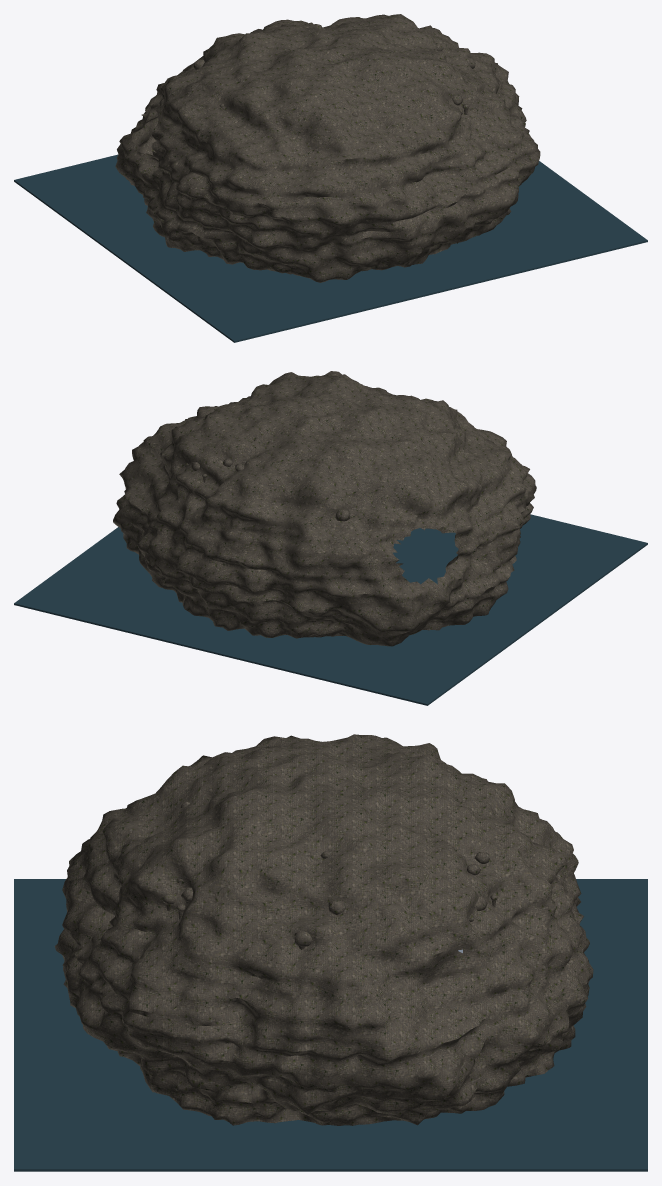
The model's file is Cave.fbx.
The picture shows the model from 3 angles, top to bottom: view 1: azimuth 30°, elevation 25°; view 2: azimuth 150°, elevation 25°; view 3: azimuth 270°, elevation 25°; orthographic projection. The views are drawn at different scales.
Parts seen in each view (by area): view 1: Cave_Shell_LOD0, Cave_Water; view 2: Cave_Shell_LOD0, Cave_Water; view 3: Cave_Shell_LOD0, Cave_Water, Cave_Stalactites_LOD0.
Boxes of the visible parts, left/top/right/bottom form: Cave_Shell_LOD0: left=115, top=14, right=540, bottom=282; Cave_Water: left=14, top=154, right=647, bottom=342; Cave_Shell_LOD0: left=113, top=371, right=536, bottom=646; Cave_Water: left=14, top=514, right=647, bottom=705; Cave_Shell_LOD0: left=54, top=734, right=593, bottom=1125; Cave_Water: left=14, top=879, right=647, bottom=1171; Cave_Stalactites_LOD0: left=163, top=801, right=497, bottom=949.
Size of what is drawn, in the model's own units: 260 by 111 by 240.
